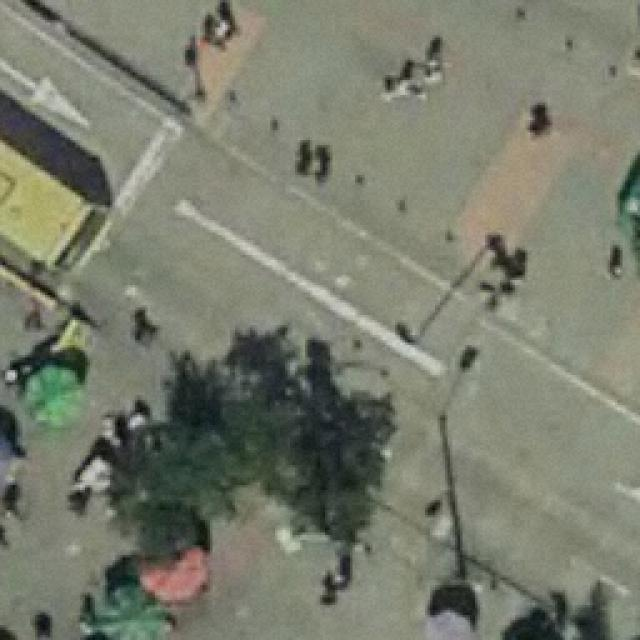vendedor_ambulante: (134, 535, 215, 606), (23, 359, 93, 433), (92, 577, 169, 640), (422, 605, 476, 640)
